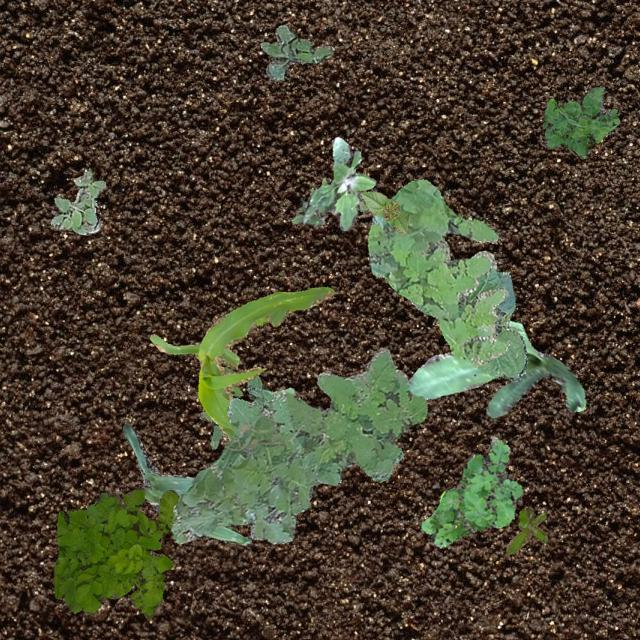crop: (148, 286, 336, 438), (406, 319, 584, 416), (122, 422, 250, 544), (408, 260, 526, 380), (360, 190, 408, 233)
weed: (170, 346, 426, 544), (366, 178, 508, 366), (53, 487, 178, 618), (420, 434, 522, 546), (290, 136, 374, 230), (198, 366, 292, 448), (542, 84, 618, 158), (260, 24, 332, 80), (50, 170, 104, 233), (504, 507, 546, 552)
